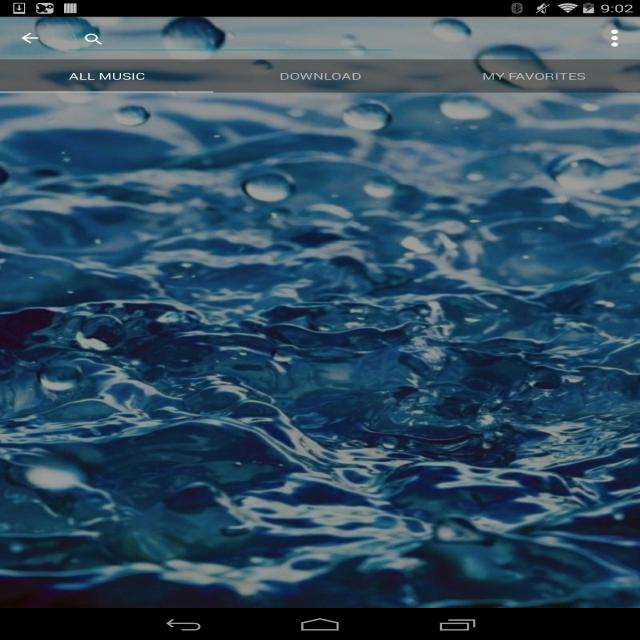button: (215, 62, 441, 91), (3, 61, 212, 92), (444, 61, 637, 91), (602, 24, 630, 52), (12, 27, 44, 51)
field: (70, 23, 391, 50)
image: (2, 18, 640, 608)
